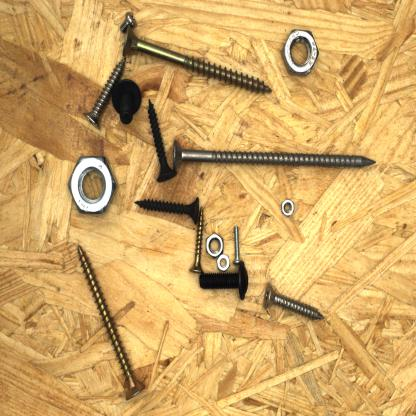screw: (75, 239, 148, 403), (122, 22, 275, 97), (170, 137, 378, 175), (81, 54, 129, 133), (147, 95, 180, 186), (260, 279, 328, 322), (195, 257, 251, 303), (131, 193, 203, 228), (187, 204, 208, 276), (227, 223, 247, 266), (118, 10, 138, 35)
